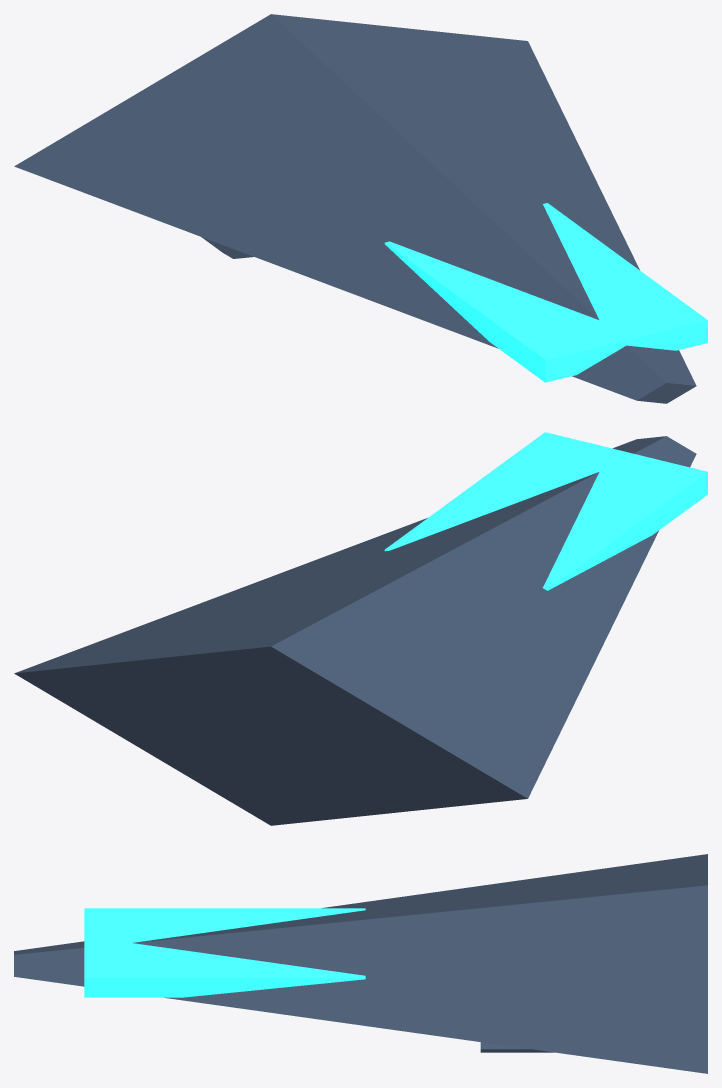
File: light_interceptor.glb
3 renders of one model, top to bottom at view 1: azimuth 30°, elevation 25°; view 2: azimuth 150°, elevation 25°; view 3: azimuth 270°, elevation 25°, orthographic. The views are drawn at different scales.
Parts seen in each view (by area): view 1: light_interceptor; view 2: light_interceptor; view 3: light_interceptor.
Part boxes in pixels (x1,y1,x2,y2): light_interceptor: (14,14,707,403); light_interceptor: (14,432,707,825); light_interceptor: (14,854,707,1073).
Size of the model in its own units: 6 by 2 by 8.
